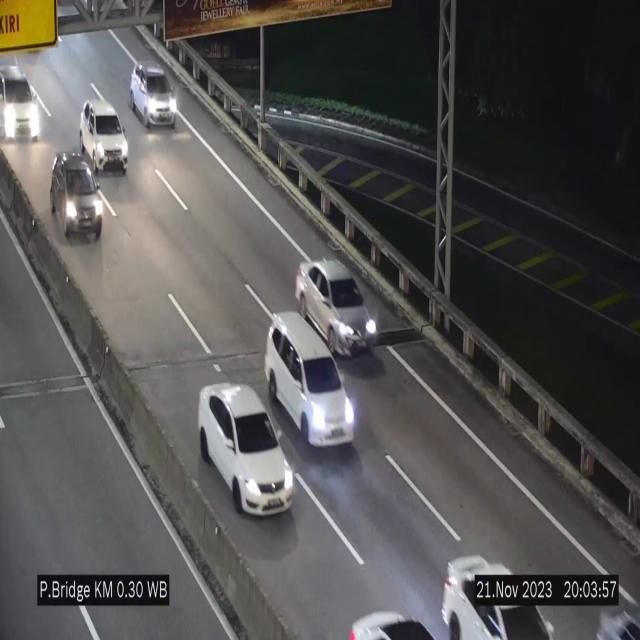Car: (198, 384, 294, 516), (265, 314, 357, 448), (434, 538, 552, 640), (295, 259, 381, 354), (43, 150, 109, 244), (342, 590, 440, 640), (0, 58, 42, 146), (80, 100, 128, 172), (130, 62, 178, 128)
